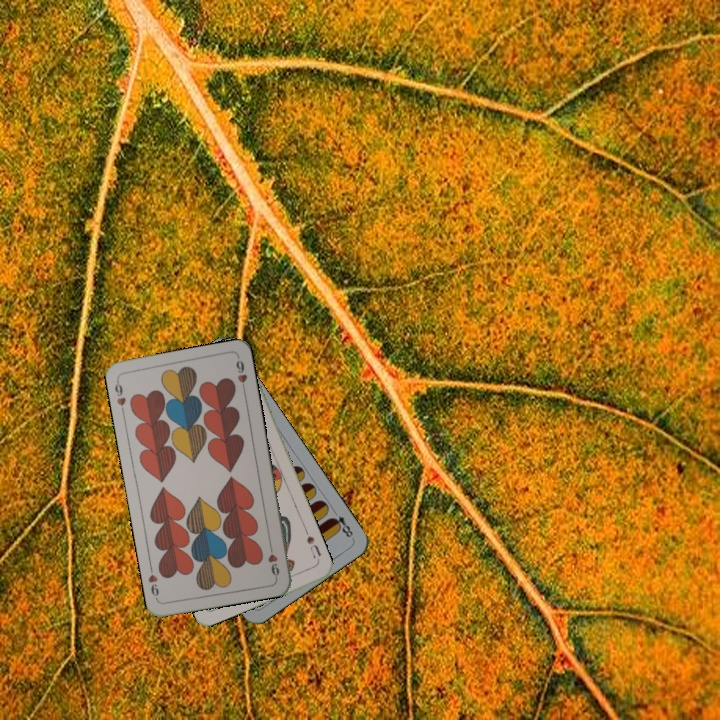E8: (327, 505, 356, 540)
H9: (264, 540, 282, 580), (111, 376, 129, 416)
SU: (302, 532, 324, 561)
